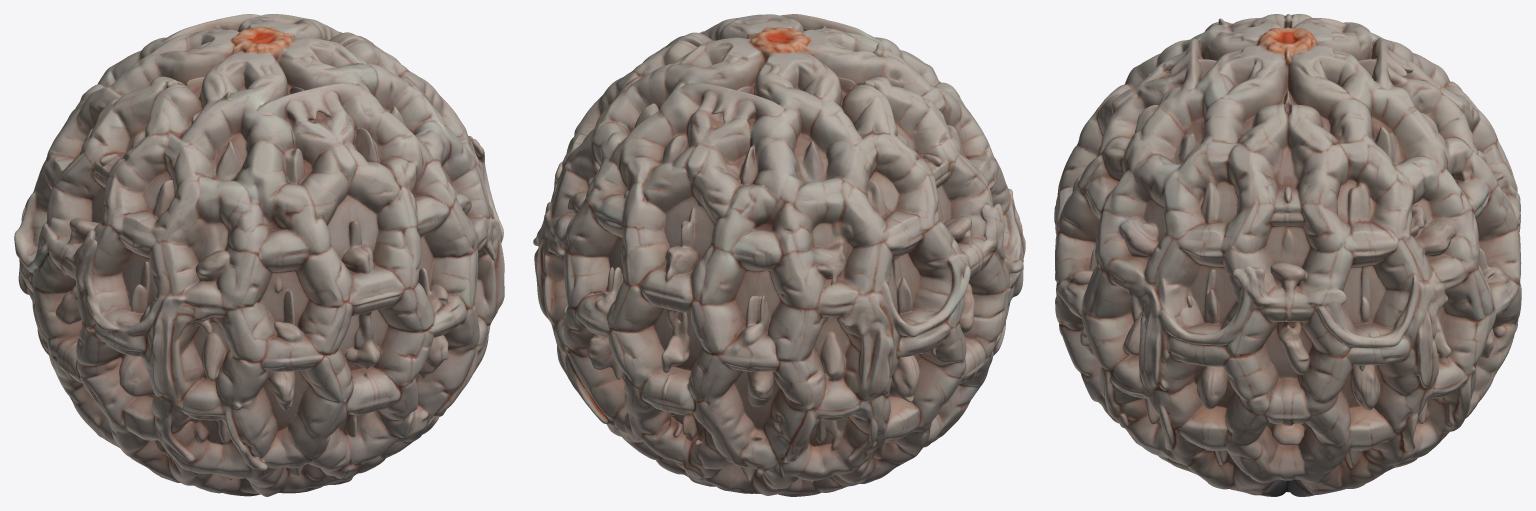
File: detailed_realistic_model_solid_08.glb
The picture shows the model from 3 angles, left to right: view 1: azimuth 30°, elevation 25°; view 2: azimuth 150°, elevation 25°; view 3: azimuth 270°, elevation 25°; orthographic projection.
Parts seen in each view (by area): view 1: tripo_node_dc9313a8-3fb8-42ce-96a1-90a631ba22cb; view 2: tripo_node_dc9313a8-3fb8-42ce-96a1-90a631ba22cb; view 3: tripo_node_dc9313a8-3fb8-42ce-96a1-90a631ba22cb.
Boxes of the visible parts, left/top/right/bottom form: tripo_node_dc9313a8-3fb8-42ce-96a1-90a631ba22cb: left=14, top=14, right=504, bottom=496; tripo_node_dc9313a8-3fb8-42ce-96a1-90a631ba22cb: left=533, top=14, right=1025, bottom=496; tripo_node_dc9313a8-3fb8-42ce-96a1-90a631ba22cb: left=1054, top=14, right=1521, bottom=496.
Size of the model in its own units: 1 by 0.9976 by 0.9823.
1 material, 1 textured.
